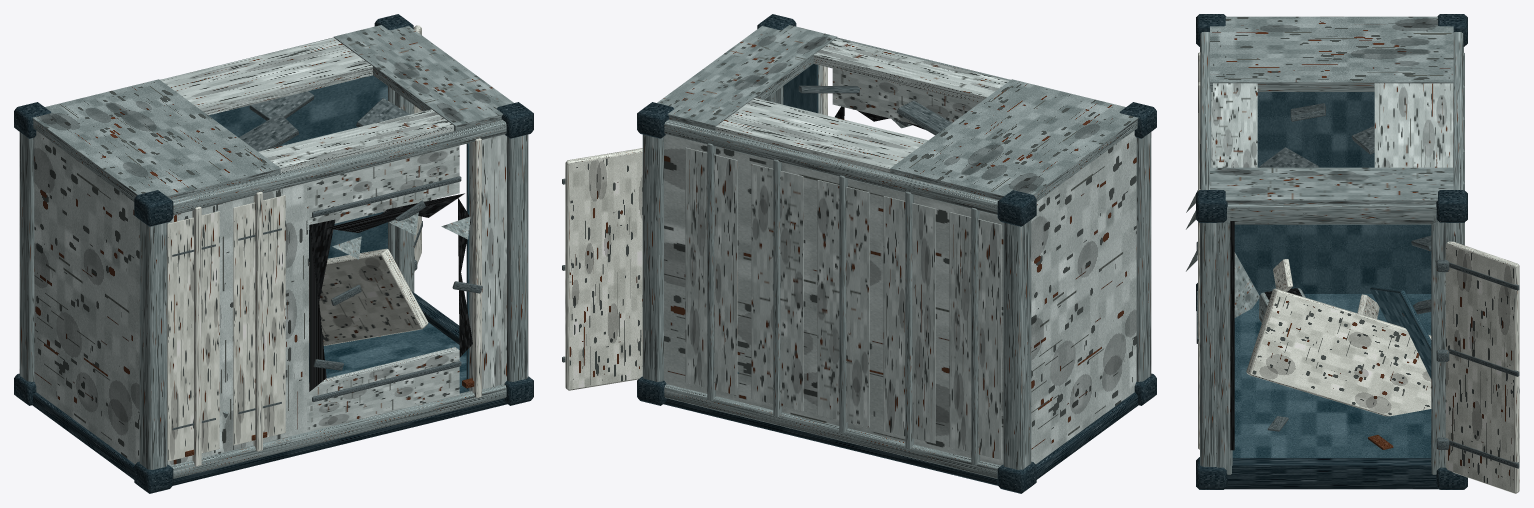
Rendered from CargoUnit.glb.
3 views of the same model, side by side, from view 1: azimuth 30°, elevation 25°; view 2: azimuth 150°, elevation 25°; view 3: azimuth 270°, elevation 25° (orthographic).
Parts seen in each view (by area): view 1: CargoUnit_Ransacked; view 2: CargoUnit_Ransacked; view 3: CargoUnit_Ransacked.
Boxes of the visible parts, x1,y1,x2,y2 form: CargoUnit_Ransacked: (14, 14, 533, 493); CargoUnit_Ransacked: (562, 14, 1156, 493); CargoUnit_Ransacked: (1186, 14, 1519, 493).
Size of the model in its own units: 9.37 by 6 by 6.23.
Materials: 1 (1 with a texture image).
